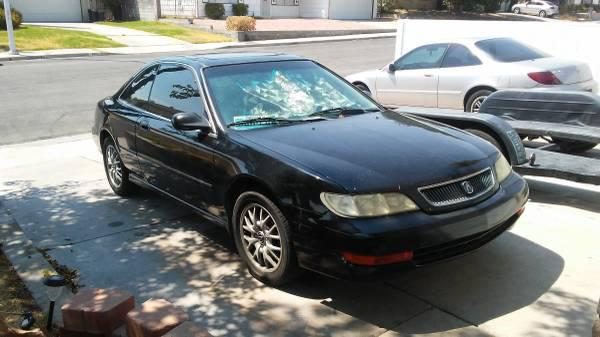acura: (75, 50, 523, 279)
